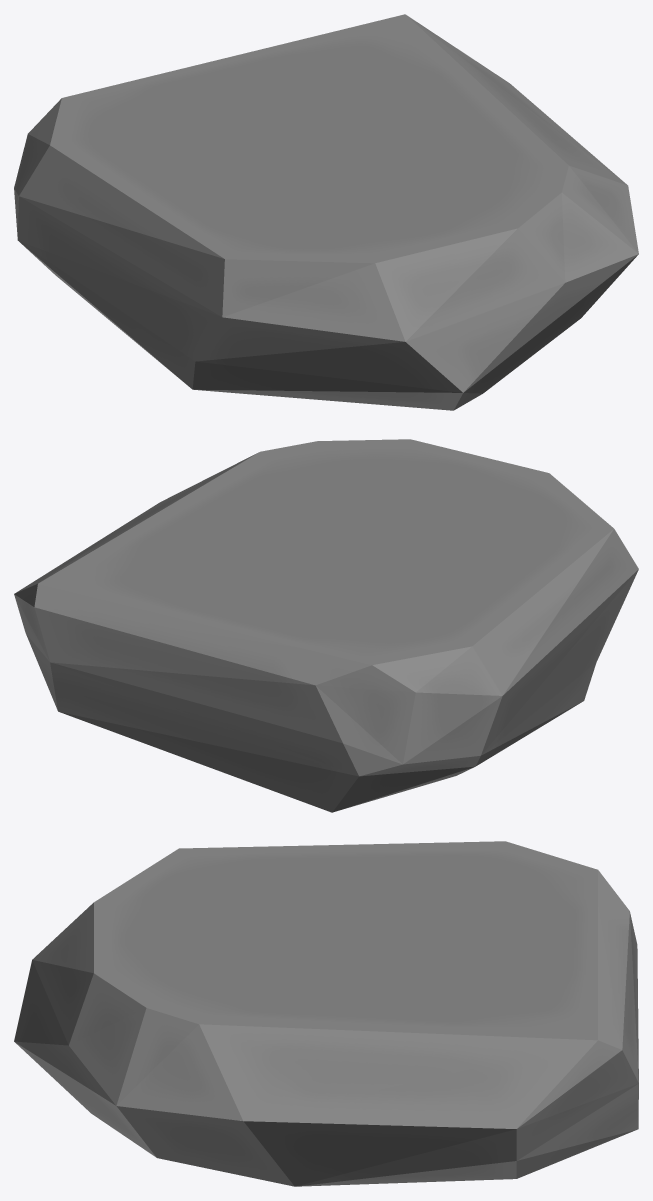
Rendered from Flatten stone 2.fbx.
3 views of the same model, one above another, from view 1: azimuth 30°, elevation 25°; view 2: azimuth 150°, elevation 25°; view 3: azimuth 270°, elevation 25° (orthographic). The views are drawn at different scales.
Parts seen in each view (by area): view 1: Plane002; view 2: Plane002; view 3: Plane002.
Boxes of the visible parts, x1,y1,x2,y2 form: Plane002: (14,14,638,410); Plane002: (14,439,638,812); Plane002: (14,841,638,1186).
Size of the model in its own units: 14 by 4.21 by 14.99.
1 material, 1 textured.
